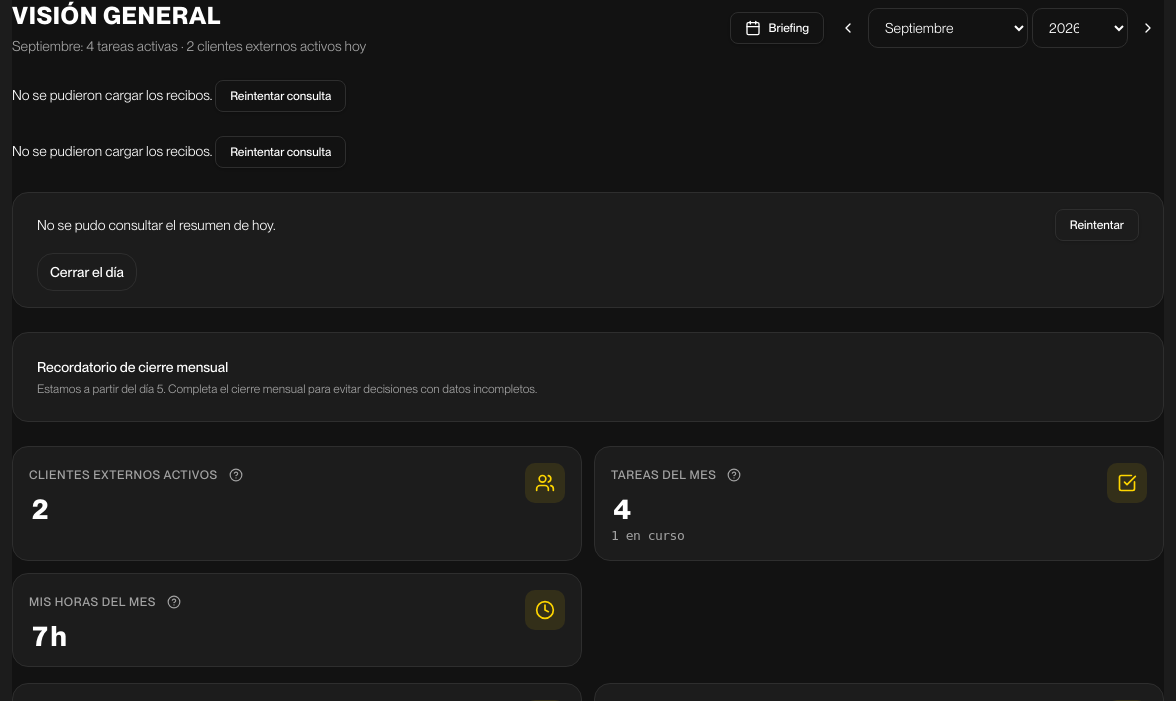
Test: DashboardPage › loads the selected month's close without carrying the previous inputs
The image size is (1176, 701).
Click the button titled "Mes anterior": (848, 28) [832,12,864,44]
(page scrolled)
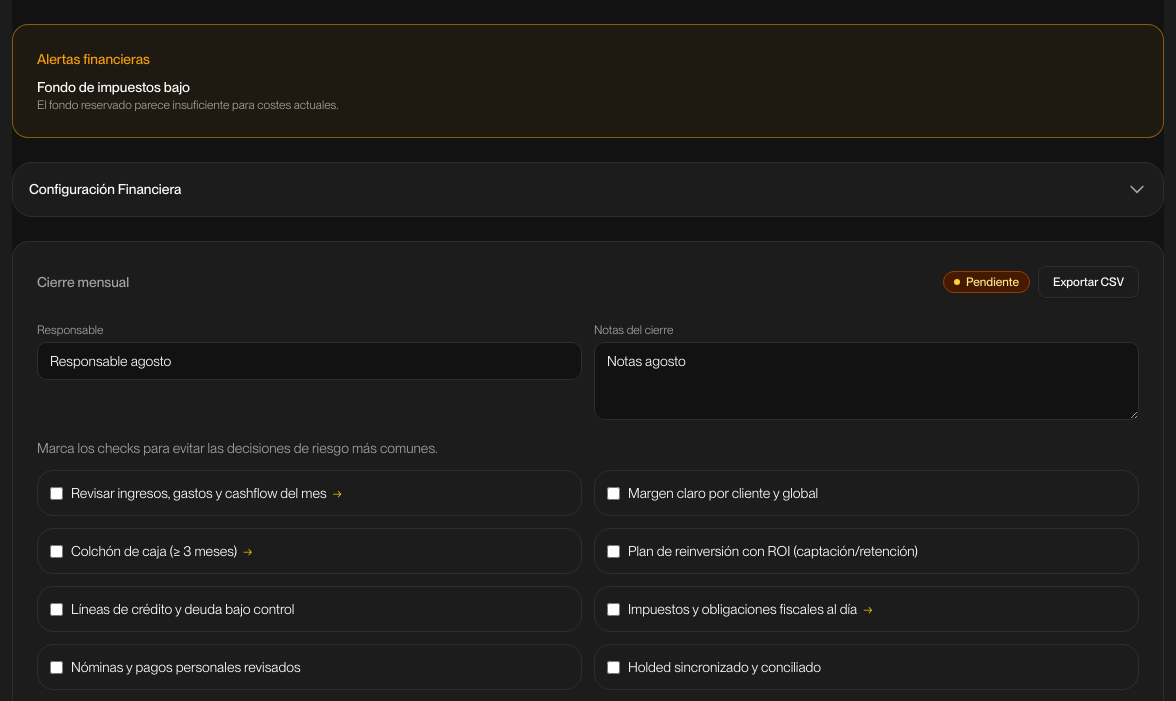
Now the text box showing "Notas agosto" is shown, box [594,342,1139,420]
Now the field labelled "Responsable" holds "Responsable agosto", box [37,342,582,380]
